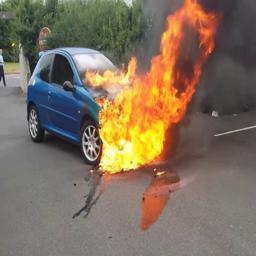fire: (85, 0, 222, 173)
